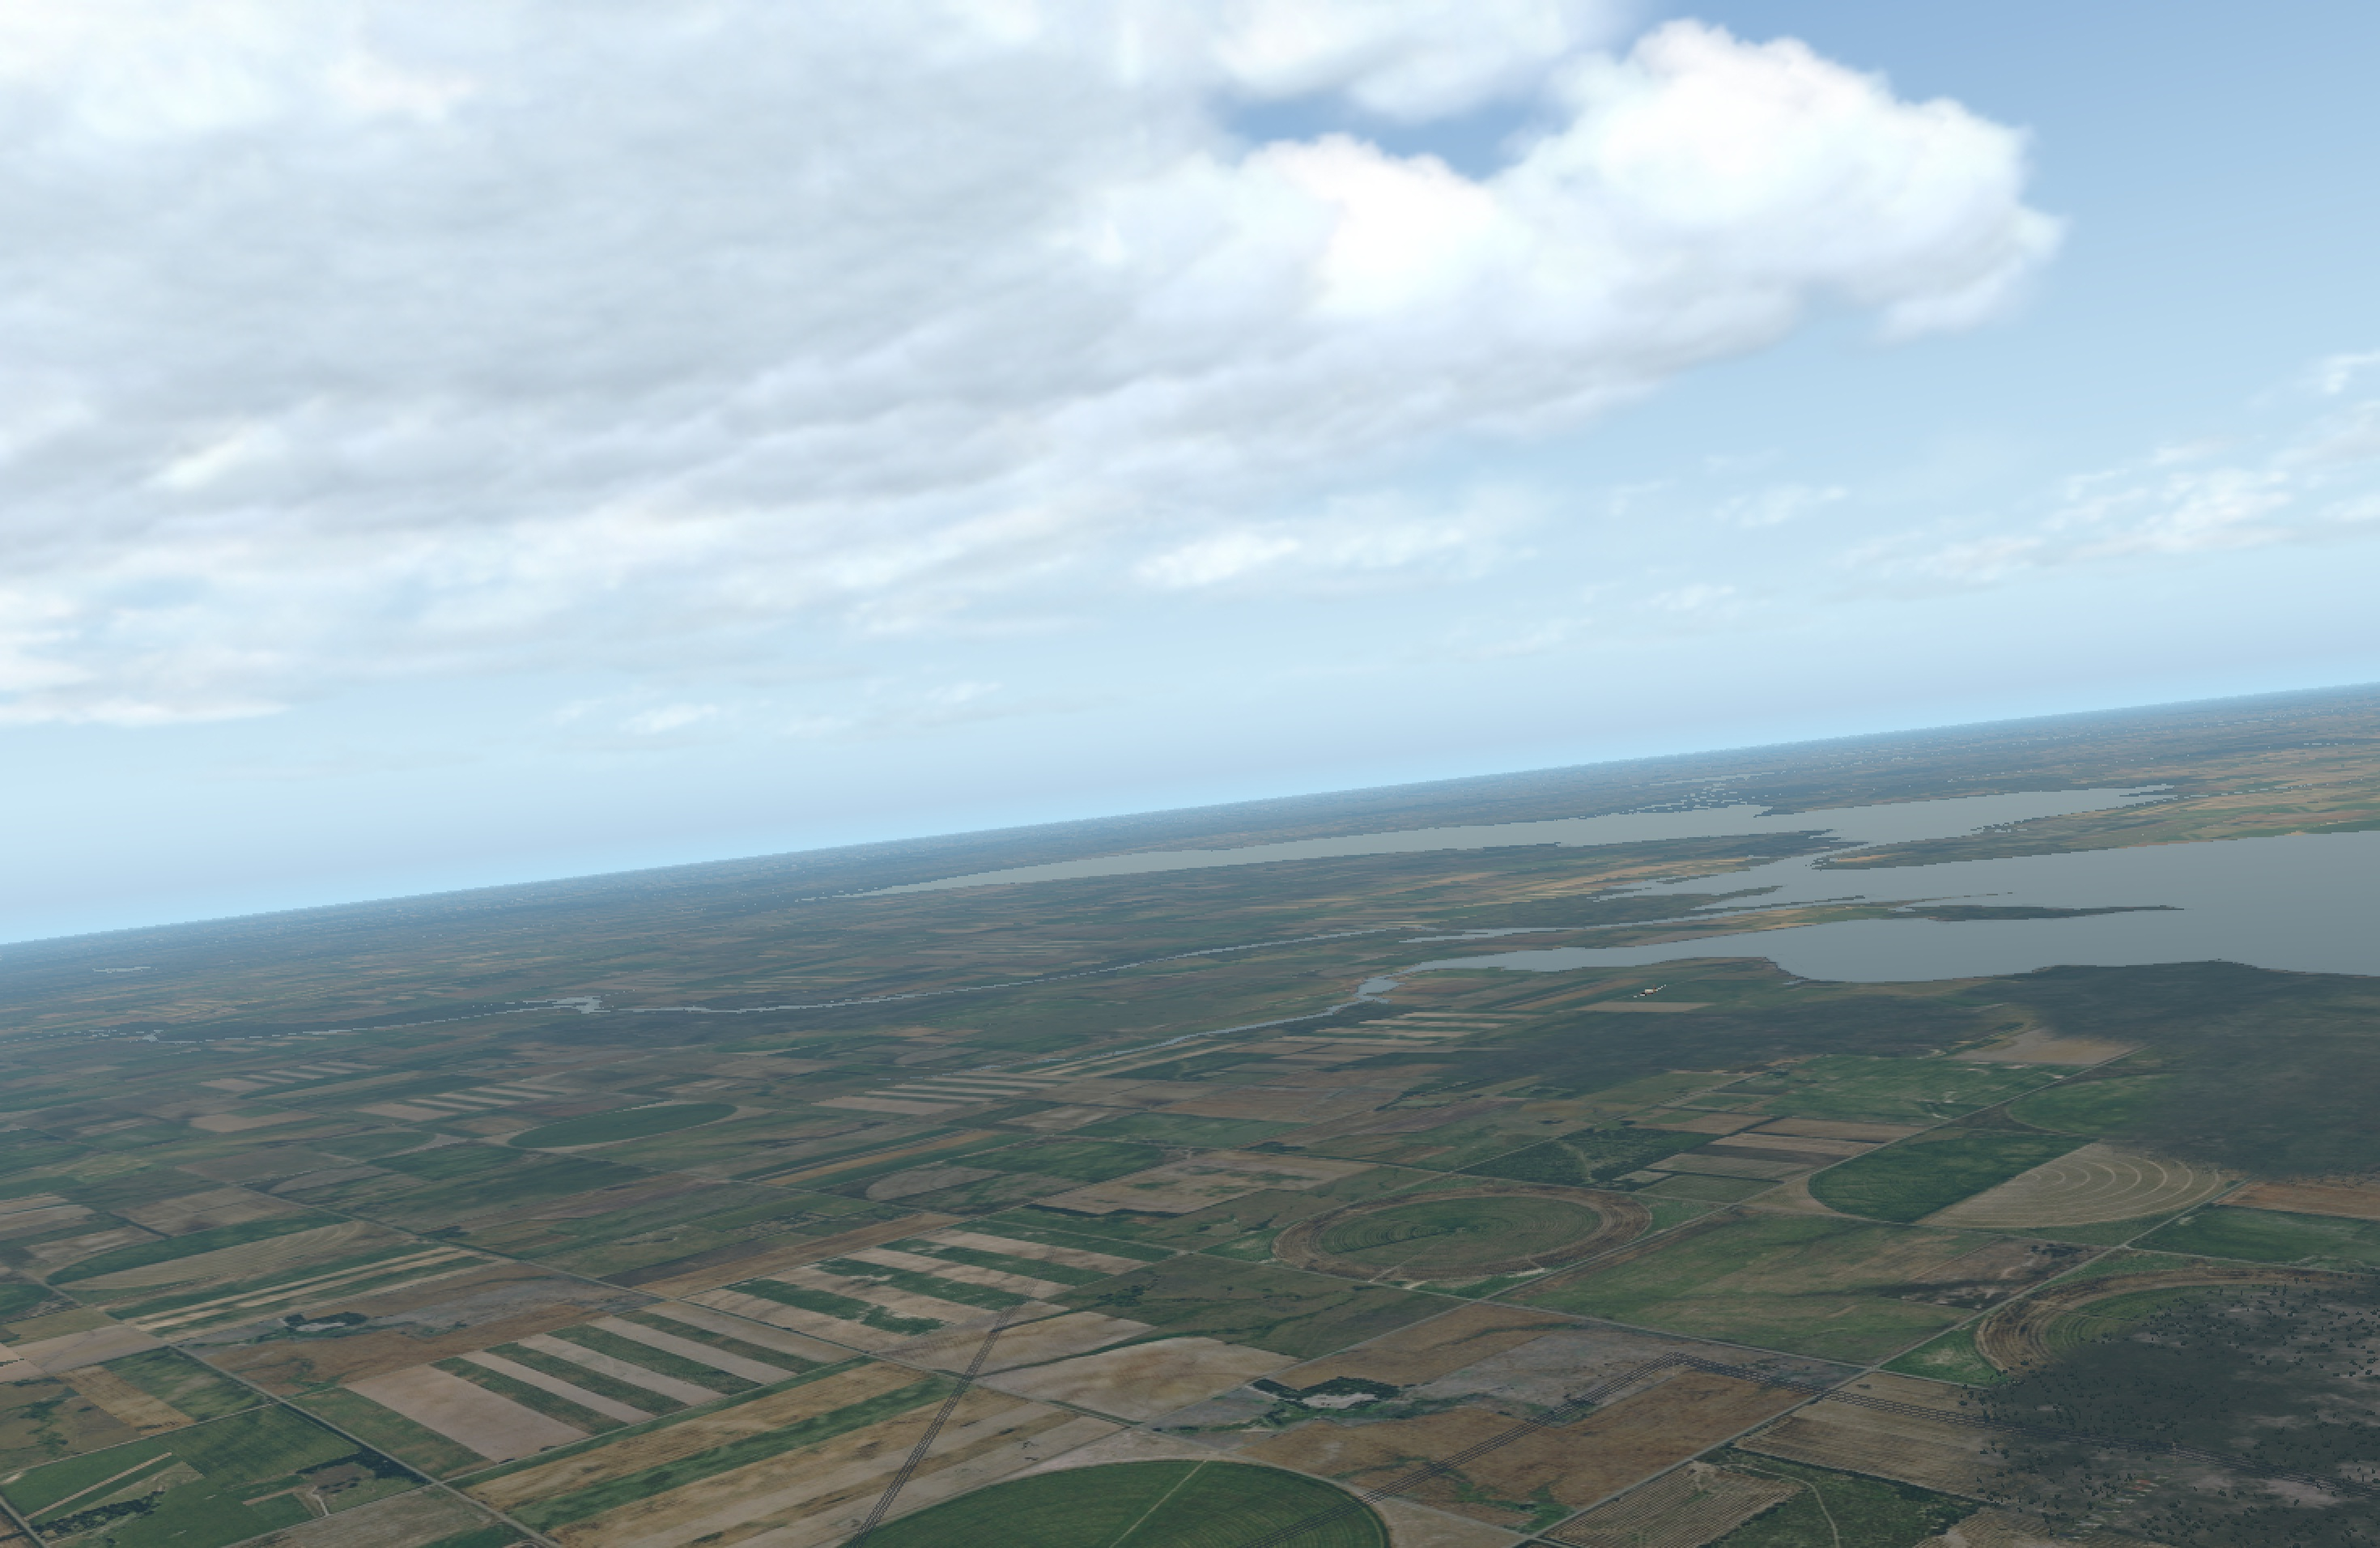aircraft: (1629, 986, 1669, 1001)
